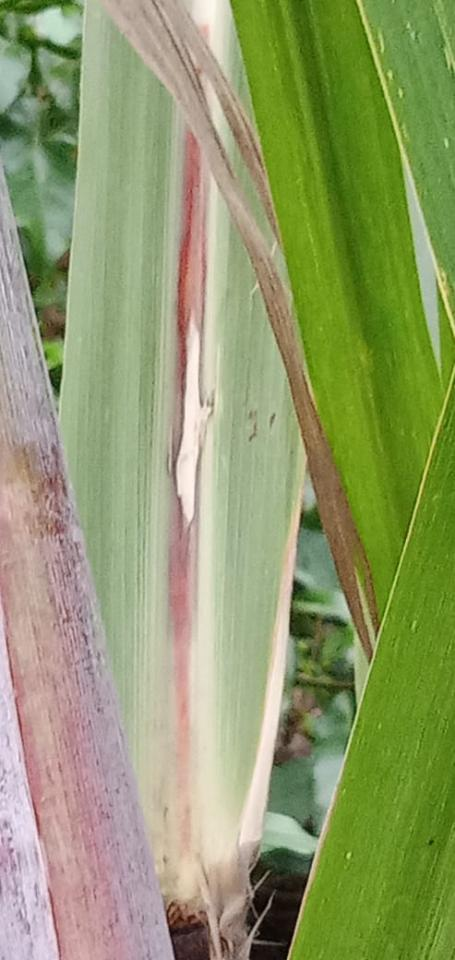RedRot: (169, 124, 215, 856)
